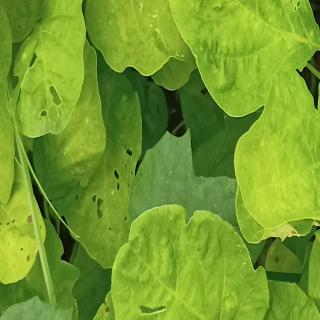karat_putih: (44, 99, 108, 202)
kekurangan_mangan: (0, 202, 46, 294)
virus_keriting: (108, 199, 260, 320), (170, 4, 314, 106)
